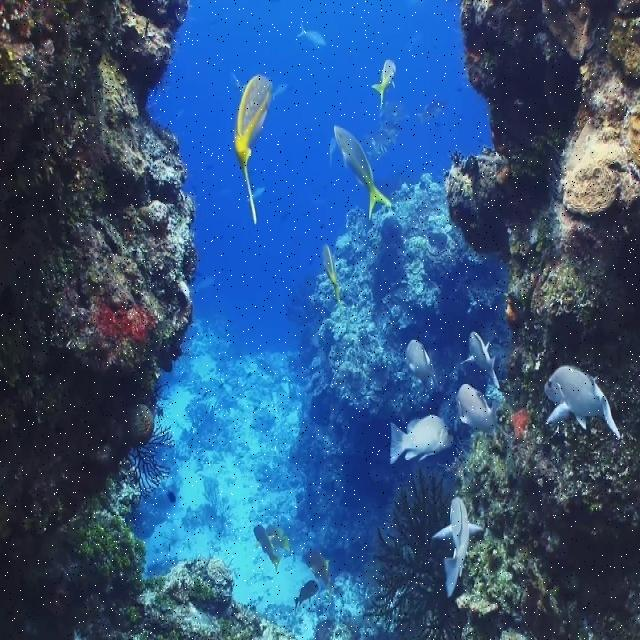fish: (233, 74, 288, 225), (544, 365, 621, 439), (334, 125, 392, 221), (431, 496, 484, 597), (390, 415, 454, 464), (460, 330, 500, 387), (456, 383, 499, 432), (405, 338, 435, 395), (370, 59, 397, 107), (323, 243, 340, 301), (297, 21, 327, 45)
sea-floor: (0, 2, 298, 639)
